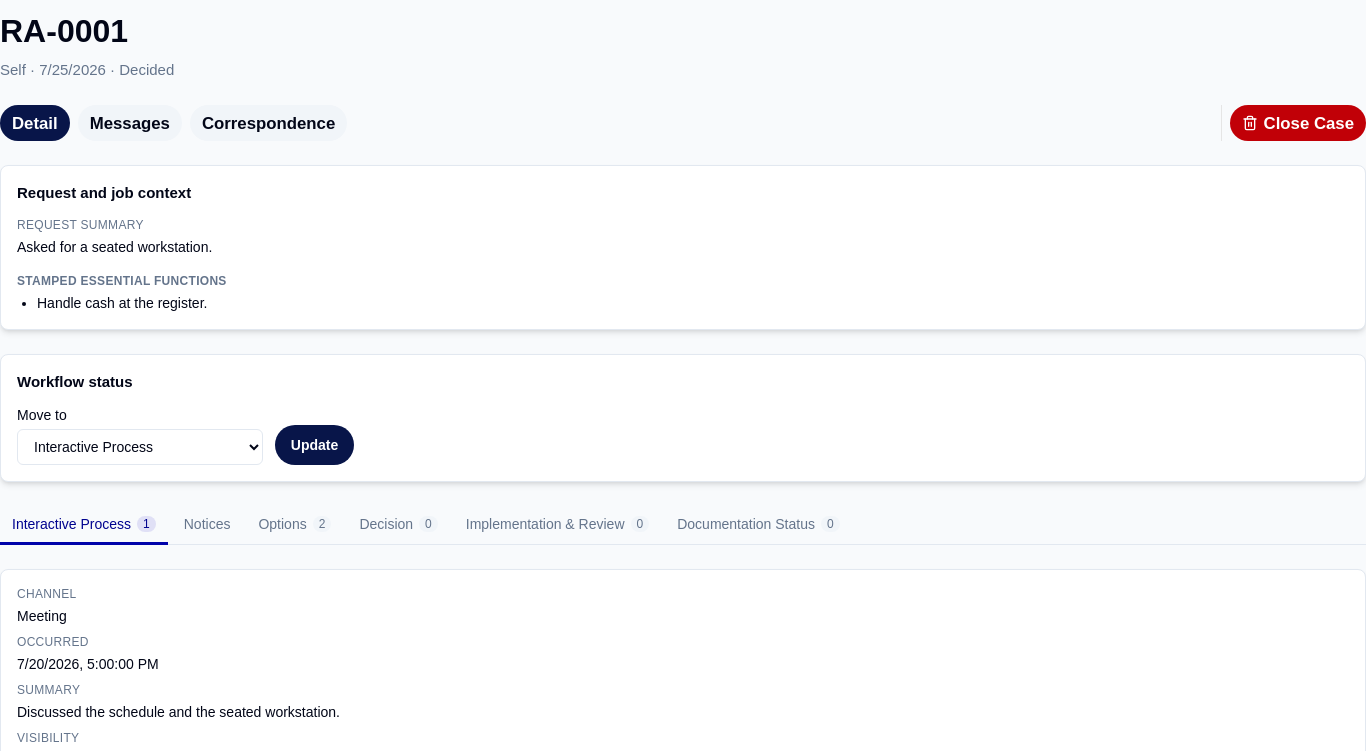
Test: the restricted medical surface is Platform Admin / HR Partner only › blocks recording prohibited medical detail before it can reach the database
Click the tab "Documentation status 0". click: point(758, 526)
box: [665, 506, 852, 545]
(page scrolled)
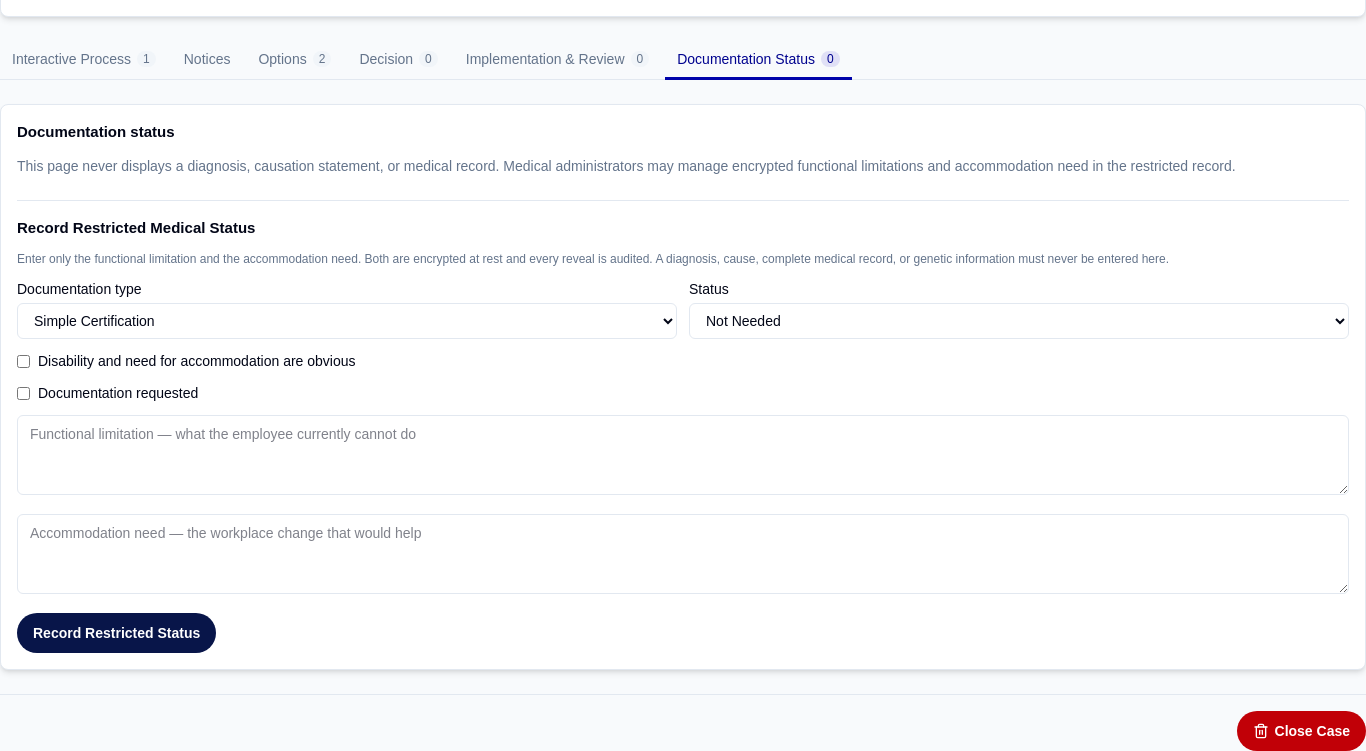
Replace the text in the text box labelled "Functional limitation" with "Her diagnosis is multiple sclerosis.". click: point(683, 455)
box: [17, 415, 1349, 495]
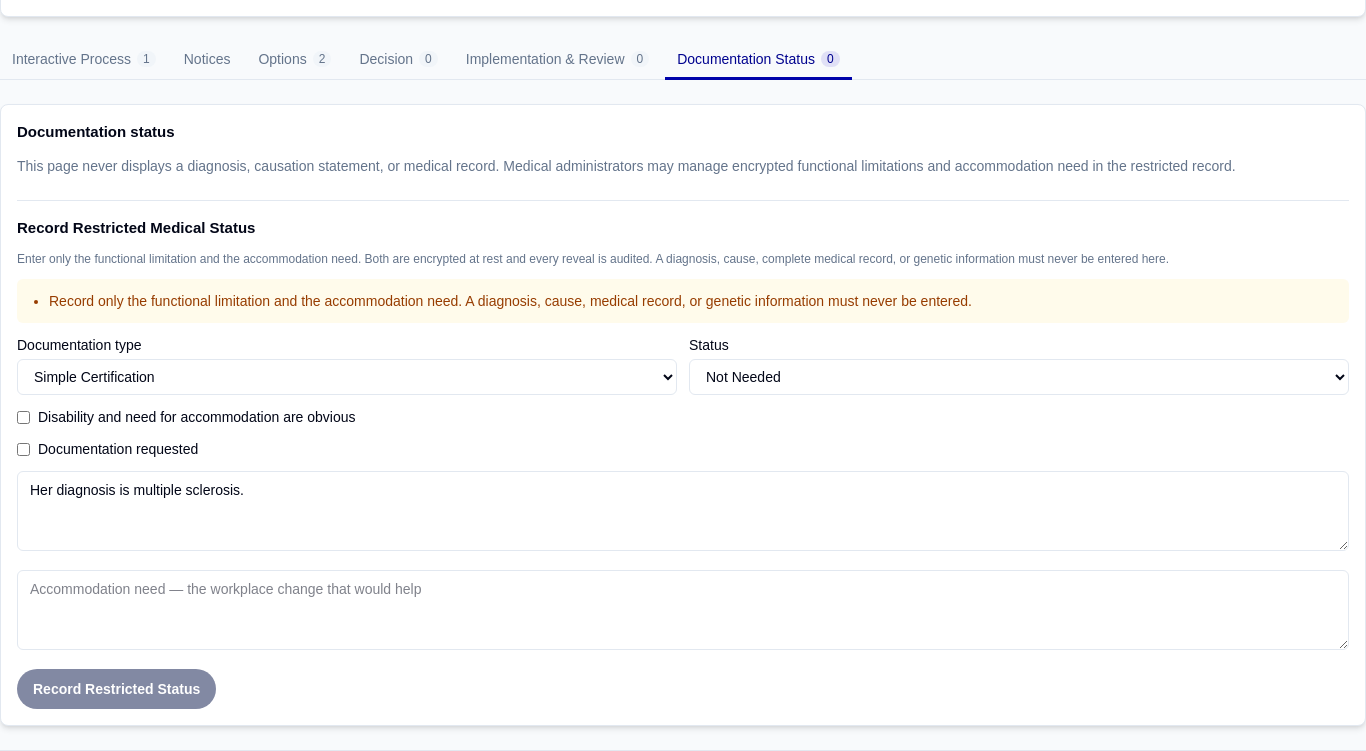
Result: the button "Record Restricted Status" is disabled at [17, 669, 216, 709]
